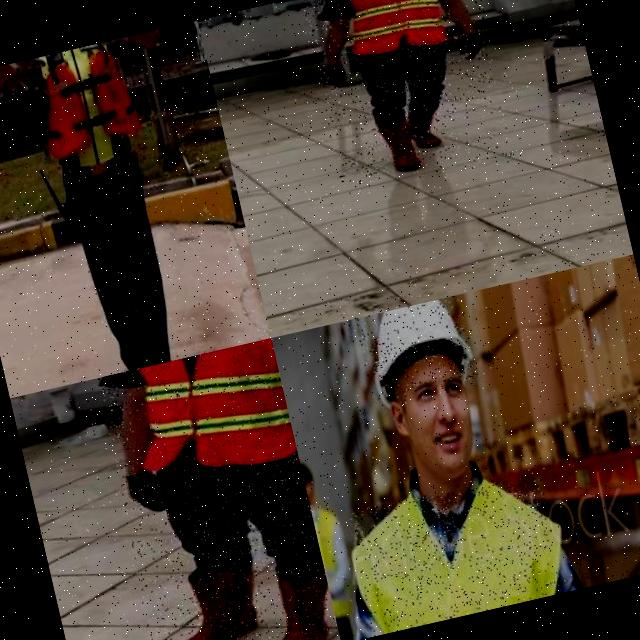boots: (152, 560, 272, 640), (256, 563, 341, 640), (374, 113, 424, 174), (408, 102, 444, 154)
helmet: (352, 294, 481, 406)
vest: (336, 466, 566, 638), (120, 338, 297, 487), (28, 37, 150, 182), (338, 0, 452, 64), (310, 501, 359, 623)
